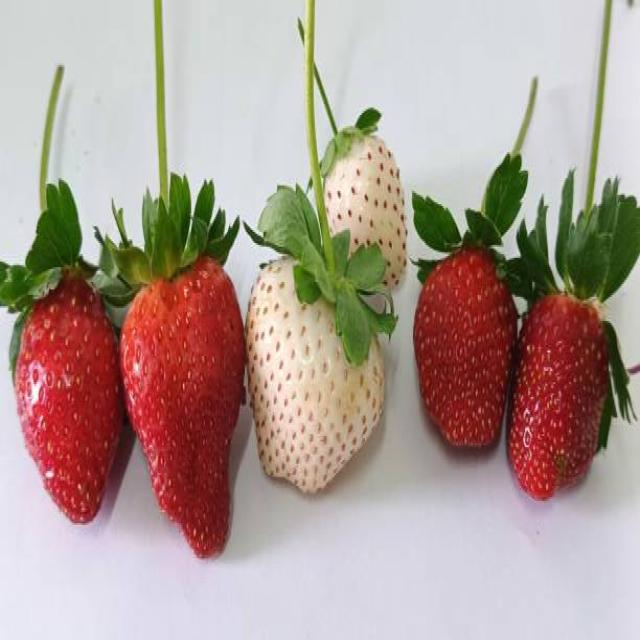Healthy Fruit: (119, 257, 246, 560), (246, 254, 386, 493), (13, 271, 125, 521), (414, 249, 519, 454), (506, 293, 606, 503), (323, 134, 409, 295)
